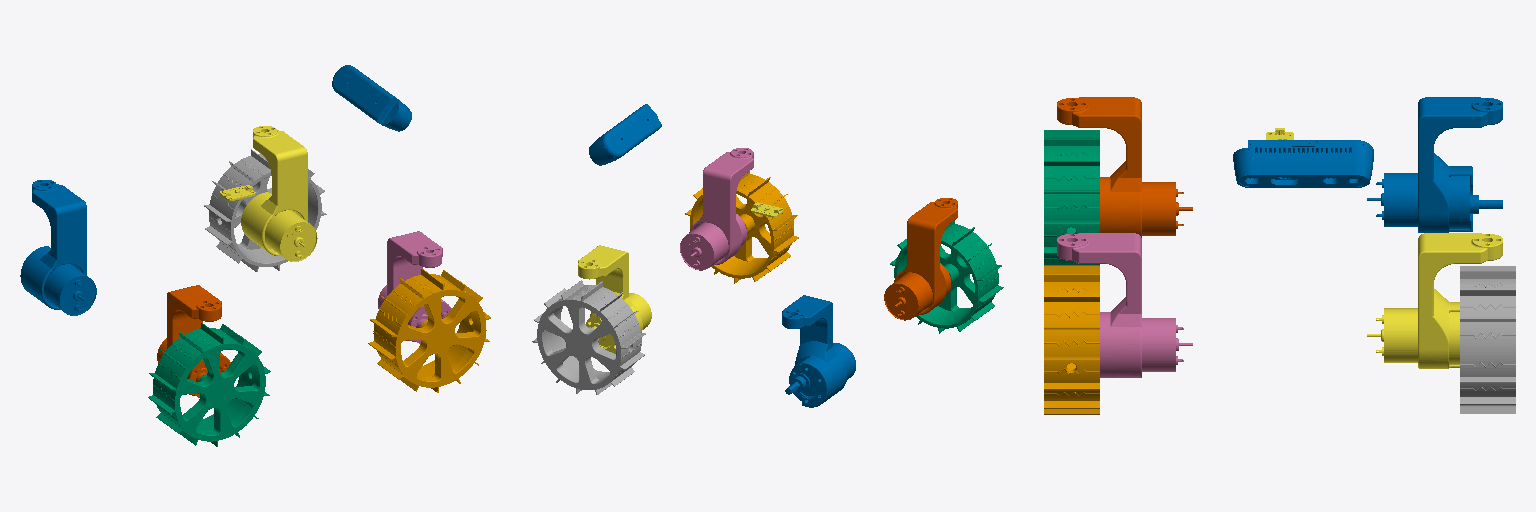
robot.urdf — rocker_bogie_4wd_rover:
<?xml version='1.0' encoding='utf-8'?>
<robot name="rocker_bogie_4wd_rover">
  <!-- KSRC: generated by fix_rev5.py from rocker_bogie_4wd_rover.urdf (rev5 2026-10-14). Fixes: right steering names swapped, steering axis +z, wheel axes +y, base origin at module center (+18.3 mm), old link names, old joint limits (+-90 deg), wheel meshes re-centred on the steering axis (export offset 4.5 mm; assembly rev5.stl has the tread centred). Masses unchanged. -->
  <link name="base_link">
    <inertial>
      <origin xyz="0.010290799972 0.003240341788 -0.025673826811" rpy="0 0 0" />
      <mass value="0.847900053986" />
      <inertia ixx="0.002302831138" ixy="-0.000113581036669" ixz="0.000108137936490" iyy="0.004180321839" iyz="0.000015141466736" izz="0.005334787938" />
    </inertial>
    <visual>
      <origin xyz="0.01830665319 0 0" rpy="0 0 0" />
      <geometry>
        <mesh filename="meshes/rev5/base_link.stl" scale="0.001 0.001 0.001" />
      </geometry>
    </visual>
    <collision>
      <origin xyz="0.01830665319 0 0" rpy="0 0 0" />
      <geometry>
        <mesh filename="meshes/rev5/base_link.stl" scale="0.001 0.001 0.001" />
      </geometry>
    </collision>
  </link>
  <link name="left_rocker_link">
    <inertial>
      <origin xyz="0.000041281766 0.055638256545 -0.022265167017" rpy="0 0 0" />
      <mass value="0.186900033238" />
      <inertia ixx="0.000095809929947" ixy="0.000000472580802" ixz="-0.000000167203869" iyy="0.001204701265" iyz="0.000027487080501" izz="0.001220632439" />
    </inertial>
    <visual>
      <origin xyz="0 0 0" rpy="0 0 0" />
      <geometry>
        <mesh filename="meshes/rev5/arm_l_link.stl" scale="0.001 0.001 0.001" />
      </geometry>
    </visual>
    <collision>
      <origin xyz="0 0 0" rpy="0 0 0" />
      <geometry>
        <mesh filename="meshes/rev5/arm_l_link.stl" scale="0.001 0.001 0.001" />
      </geometry>
    </collision>
  </link>
  <joint name="left_rocker_joint" type="revolute">
    <parent link="base_link" />
    <child link="left_rocker_link" />
    <origin xyz="0 0.06918739351 0" rpy="0 0 0" />
    <axis xyz="0 1 0" />
    <limit lower="-0.523598775598" upper="0.523598775598" effort="0" velocity="3" />
    <dynamics damping="0.01" friction="0" />
  </joint>
  <link name="right_rocker_link">
    <inertial>
      <origin xyz="0.000045263438 -0.055653675439 -0.022209589971" rpy="0 0 0" />
      <mass value="0.186899954875" />
      <inertia ixx="0.000095650905168" ixy="-0.000000408041754" ixz="-0.000000163472263" iyy="0.001202966667" iyz="-0.000027393035014" izz="0.001218553662" />
    </inertial>
    <visual>
      <origin xyz="0 0 0" rpy="0 0 0" />
      <geometry>
        <mesh filename="meshes/rev5/arm_r_link.stl" scale="0.001 0.001 0.001" />
      </geometry>
    </visual>
    <collision>
      <origin xyz="0 0 0" rpy="0 0 0" />
      <geometry>
        <mesh filename="meshes/rev5/arm_r_link.stl" scale="0.001 0.001 0.001" />
      </geometry>
    </collision>
  </link>
  <joint name="right_rocker_joint" type="revolute">
    <parent link="base_link" />
    <child link="right_rocker_link" />
    <origin xyz="0 -0.06918739351 0" rpy="0 0 0" />
    <axis xyz="0 1 0" />
    <limit lower="-0.523598775598" upper="0.523598775598" effort="0" velocity="3" />
    <dynamics damping="0.01" friction="0" />
    <mimic joint="left_rocker_joint" multiplier="-1" offset="0" />
  </joint>
  <link name="fl_steering_link">
    <inertial>
      <origin xyz="0.006757812092 0.037123406320 -0.066878858232" rpy="0 0 0" />
      <mass value="0.225299994110" />
      <inertia ixx="0.000117798243071" ixy="-0.000000391472486" ixz="0.000005555278691" iyy="0.000079323177632" iyz="0.000007931530746" izz="0.000076905189285" />
    </inertial>
    <visual>
      <origin xyz="0 0 0" rpy="0 0 0" />
      <geometry>
        <mesh filename="meshes/rev5/wheel_link_1.stl" scale="0.001 0.001 0.001" />
      </geometry>
    </visual>
    <collision>
      <origin xyz="0 0 0" rpy="0 0 0" />
      <geometry>
        <mesh filename="meshes/rev5/wheel_link_1.stl" scale="0.001 0.001 0.001" />
      </geometry>
    </collision>
  </link>
  <joint name="fl_steering_joint" type="revolute">
    <parent link="left_rocker_link" />
    <child link="fl_steering_link" />
    <origin xyz="0.10243139721 0.06331260649 -0.04531324865" rpy="0 0 3.14159265359" />
    <axis xyz="0 0 1" />
    <limit lower="-1.5707963267948966" upper="1.5707963267948966" effort="2.942" velocity="4.0" />
    <dynamics damping="0.01" friction="0" />
  </joint>
  <link name="rl_steering_link">
    <inertial>
      <origin xyz="-0.006757812092 -0.037123406320 -0.066878858232" rpy="0 0 0" />
      <mass value="0.225299994110" />
      <inertia ixx="0.000117798243071" ixy="-0.000000391472486" ixz="-0.000005555278691" iyy="0.000079323177632" iyz="-0.000007931530746" izz="0.000076905189285" />
    </inertial>
    <visual>
      <origin xyz="0 0 0" rpy="0 0 0" />
      <geometry>
        <mesh filename="meshes/rev5/wheel_link_3.stl" scale="0.001 0.001 0.001" />
      </geometry>
    </visual>
    <collision>
      <origin xyz="0 0 0" rpy="0 0 0" />
      <geometry>
        <mesh filename="meshes/rev5/wheel_link_3.stl" scale="0.001 0.001 0.001" />
      </geometry>
    </collision>
  </link>
  <joint name="rl_steering_joint" type="revolute">
    <parent link="left_rocker_link" />
    <child link="rl_steering_link" />
    <origin xyz="-0.10243139721 0.06331260649 -0.04531324865" rpy="0 0 0" />
    <axis xyz="0 0 1" />
    <limit lower="-1.5707963267948966" upper="1.5707963267948966" effort="2.942" velocity="4.0" />
    <dynamics damping="0.01" friction="0" />
  </joint>
  <link name="rr_steering_link">
    <inertial>
      <origin xyz="0.006757812092 0.037123406320 -0.066878858232" rpy="0 0 0" />
      <mass value="0.225299994110" />
      <inertia ixx="0.000117798243071" ixy="-0.000000391472486" ixz="0.000005555278691" iyy="0.000079323177632" iyz="0.000007931530746" izz="0.000076905189285" />
    </inertial>
    <visual>
      <origin xyz="0 0 0" rpy="0 0 0" />
      <geometry>
        <mesh filename="meshes/rev5/wheel_link_2.stl" scale="0.001 0.001 0.001" />
      </geometry>
    </visual>
    <collision>
      <origin xyz="0 0 0" rpy="0 0 0" />
      <geometry>
        <mesh filename="meshes/rev5/wheel_link_2.stl" scale="0.001 0.001 0.001" />
      </geometry>
    </collision>
  </link>
  <joint name="fr_steering_joint" type="revolute">
    <parent link="right_rocker_link" />
    <child link="fr_steering_link" />
    <origin xyz="0.10243139721 -0.06331260649 -0.04531324865" rpy="0 0 3.14159265359" />
    <axis xyz="0 0 1" />
    <limit lower="-1.5707963267948966" upper="1.5707963267948966" effort="2.942" velocity="4.0" />
    <dynamics damping="0.01" friction="0" />
  </joint>
  <link name="fr_steering_link">
    <inertial>
      <origin xyz="-0.006757812092 -0.037123406320 -0.066878858232" rpy="0 0 0" />
      <mass value="0.225299994110" />
      <inertia ixx="0.000117798243071" ixy="-0.000000391472486" ixz="-0.000005555278691" iyy="0.000079323177632" iyz="-0.000007931530746" izz="0.000076905189285" />
    </inertial>
    <visual>
      <origin xyz="0 0 0" rpy="0 0 0" />
      <geometry>
        <mesh filename="meshes/rev5/wheel_link_4.stl" scale="0.001 0.001 0.001" />
      </geometry>
    </visual>
    <collision>
      <origin xyz="0 0 0" rpy="0 0 0" />
      <geometry>
        <mesh filename="meshes/rev5/wheel_link_4.stl" scale="0.001 0.001 0.001" />
      </geometry>
    </collision>
  </link>
  <joint name="rr_steering_joint" type="revolute">
    <parent link="right_rocker_link" />
    <child link="rr_steering_link" />
    <origin xyz="-0.10243139721 -0.06331260649 -0.04531324865" rpy="0 0 0" />
    <axis xyz="0 0 1" />
    <limit lower="-1.5707963267948966" upper="1.5707963267948966" effort="2.942" velocity="4.0" />
    <dynamics damping="0.01" friction="0" />
  </joint>
  <link name="fl_wheel_link">
    <inertial>
      <origin xyz="0.000105436252 0.00471609067 4.4891e-08" rpy="0 0 0" />
      <mass value="0.049700283757" />
      <inertia ixx="0.000036112445366" ixy="0.000000021731779" ixz="-0.000000000038044" iyy="0.000062381899087" iyz="0.000000000021673" izz="0.000035915321601" />
    </inertial>
    <visual>
      <origin xyz="0 -0.00446875048 0" rpy="0 0 0" />
      <geometry>
        <mesh filename="meshes/rev5/wheel_1.stl" scale="0.001 0.001 0.001" />
      </geometry>
    </visual>
    <collision>
      <origin xyz="0 -0.00446875048 0" rpy="0 0 0" />
      <geometry>
        <mesh filename="meshes/rev5/wheel_1.stl" scale="0.001 0.001 0.001" />
      </geometry>
    </collision>
  </link>
  <joint name="fl_wheel_joint" type="continuous">
    <parent link="fl_steering_link" />
    <child link="fl_wheel_link" />
    <origin xyz="0 0 -0.0705" rpy="0 0 3.14159265359" />
    <axis xyz="-0 1 -0" />
    <limit effort="1.0" velocity="8.0" />
    <dynamics damping="0.001" friction="0" />
  </joint>
  <link name="fr_wheel_link">
    <inertial>
      <origin xyz="0.000105436252 0.00471609067 4.4891e-08" rpy="0 0 0" />
      <mass value="0.049700283757" />
      <inertia ixx="0.000036112445366" ixy="0.000000021731779" ixz="-0.000000000038044" iyy="0.000062381899087" iyz="0.000000000021673" izz="0.000035915321601" />
    </inertial>
    <visual>
      <origin xyz="0 -0.00446875048 0" rpy="0 0 0" />
      <geometry>
        <mesh filename="meshes/rev5/wheel_2.stl" scale="0.001 0.001 0.001" />
      </geometry>
    </visual>
    <collision>
      <origin xyz="0 -0.00446875048 0" rpy="0 0 0" />
      <geometry>
        <mesh filename="meshes/rev5/wheel_2.stl" scale="0.001 0.001 0.001" />
      </geometry>
    </collision>
  </link>
  <joint name="fr_wheel_joint" type="continuous">
    <parent link="fr_steering_link" />
    <child link="fr_wheel_link" />
    <origin xyz="0 0 -0.0705" rpy="0 0 0" />
    <axis xyz="0 -1 0" />
    <limit effort="1.0" velocity="8.0" />
    <dynamics damping="0.001" friction="0" />
  </joint>
  <link name="rl_wheel_link">
    <inertial>
      <origin xyz="-0.000105517419 -0.00471606197 -4.26e-10" rpy="0 0 0" />
      <mass value="0.049700327360" />
      <inertia ixx="0.000036112478572" ixy="0.000000021752632" ixz="-0.000000000012088" iyy="0.000062381919386" iyz="-0.000000000001085" izz="0.000035915338505" />
    </inertial>
    <visual>
      <origin xyz="0 0.00446875048 0" rpy="0 0 0" />
      <geometry>
        <mesh filename="meshes/rev5/wheel_3.stl" scale="0.001 0.001 0.001" />
      </geometry>
    </visual>
    <collision>
      <origin xyz="0 0.00446875048 0" rpy="0 0 0" />
      <geometry>
        <mesh filename="meshes/rev5/wheel_3.stl" scale="0.001 0.001 0.001" />
      </geometry>
    </collision>
  </link>
  <joint name="rl_wheel_joint" type="continuous">
    <parent link="rl_steering_link" />
    <child link="rl_wheel_link" />
    <origin xyz="0 0 -0.0705" rpy="0 0 3.14159265359" />
    <axis xyz="-0 -1 -0" />
    <limit effort="1.0" velocity="8.0" />
    <dynamics damping="0.001" friction="0" />
  </joint>
  <link name="rr_wheel_link">
    <inertial>
      <origin xyz="-0.000105517419 -0.00471606197 -4.26e-10" rpy="0 0 0" />
      <mass value="0.049700327360" />
      <inertia ixx="0.000036112478572" ixy="0.000000021752632" ixz="-0.000000000012088" iyy="0.000062381919386" iyz="-0.000000000001085" izz="0.000035915338505" />
    </inertial>
    <visual>
      <origin xyz="0 0.00446875048 0" rpy="0 0 0" />
      <geometry>
        <mesh filename="meshes/rev5/wheel_4.stl" scale="0.001 0.001 0.001" />
      </geometry>
    </visual>
    <collision>
      <origin xyz="0 0.00446875048 0" rpy="0 0 0" />
      <geometry>
        <mesh filename="meshes/rev5/wheel_4.stl" scale="0.001 0.001 0.001" />
      </geometry>
    </collision>
  </link>
  <joint name="rr_wheel_joint" type="continuous">
    <parent link="rr_steering_link" />
    <child link="rr_wheel_link" />
    <origin xyz="0 0 -0.0705" rpy="0 0 0" />
    <axis xyz="0 1 0" />
    <limit effort="1.0" velocity="8.0" />
    <dynamics damping="0.001" friction="0" />
  </joint>
  <link name="imu_link">
    <inertial>
      <origin xyz="0.000039949849 0.000108307373 -0.002011729835" rpy="0 0 0" />
      <mass value="0.002400000279" />
      <inertia ixx="0.000000056092954" ixy="-0.000000000148781" ixz="-0.000000000114852" iyy="0.000000136628269" iyz="-0.000000000005384" izz="0.000000188602298" />
    </inertial>
    <visual>
      <origin xyz="0 0 0" rpy="0 0 0" />
      <geometry>
        <mesh filename="meshes/rev5/IMU.stl" scale="0.001 0.001 0.001" />
      </geometry>
    </visual>
    <collision>
      <origin xyz="0 0 0" rpy="0 0 0" />
      <geometry>
        <mesh filename="meshes/rev5/IMU.stl" scale="0.001 0.001 0.001" />
      </geometry>
    </collision>
  </link>
  <joint name="base_to_imu" type="fixed">
    <parent link="base_link" />
    <child link="imu_link" />
    <origin xyz="0.0003 0 -0.021473" rpy="0 0 0" />
  </joint>
  <link name="camera_link">
    <inertial>
      <origin xyz="-0.011811875567 0.008683428205 0.004231746168" rpy="0 0 0" />
      <mass value="0.073299981594" />
      <inertia ixx="0.000045771873705" ixy="0.000000388879236" ixz="0.000000069330944" iyy="0.000006626435639" iyz="-0.000000147048200" izz="0.000045944278179" />
    </inertial>
    <visual>
      <origin xyz="0 0 0" rpy="0 0 0" />
      <geometry>
        <mesh filename="meshes/rev5/Camera.stl" scale="0.001 0.001 0.001" />
      </geometry>
    </visual>
    <collision>
      <origin xyz="0 0 0" rpy="0 0 0" />
      <geometry>
        <mesh filename="meshes/rev5/Camera.stl" scale="0.001 0.001 0.001" />
      </geometry>
    </collision>
  </link>
  <joint name="base_to_camera" type="fixed">
    <parent link="base_link" />
    <child link="camera_link" />
    <origin xyz="0.14329239587 0.00747451631 0.01521787607" rpy="0 0.349066 0" />
  </joint>
  <link name="camera_left_optical_frame" />
  <joint name="camera_to_left_optical_frame" type="fixed">
    <parent link="camera_link" />
    <child link="camera_left_optical_frame" />
    <origin xyz="0 0.0175 0" rpy="-1.570796326795 0 -1.570796326795" />
  </joint>
  <link name="camera_right_optical_frame" />
  <joint name="camera_to_right_optical_frame" type="fixed">
    <parent link="camera_link" />
    <child link="camera_right_optical_frame" />
    <origin xyz="0 -0.0325 0" rpy="-1.570796326795 0 -1.570796326795" />
  </joint>
</robot>

--- Render facts (derived) ---
Views: 3 orthographic renders of the robot side by side, from view 1: azimuth 30°, elevation 25°; view 2: azimuth 150°, elevation 25°; view 3: azimuth 270°, elevation 25°.
Model rocker_bogie_4wd_rover with 15 links and 14 joints (6 revolute, 4 continuous, 4 fixed), rooted at base_link, posed every joint at zero.
Visible links, largest first — view 1: fr_wheel_link, rr_wheel_link, fl_steering_link, rl_steering_link, fl_wheel_link, fr_steering_link, rr_steering_link, camera_link; view 2: fl_wheel_link, rl_steering_link, rr_steering_link, fr_steering_link, rr_wheel_link, fr_wheel_link, fl_steering_link, camera_link; view 3: rl_steering_link, fr_wheel_link, fl_wheel_link, fr_steering_link, fl_steering_link, rr_steering_link, camera_link, rr_wheel_link.
Boxes of the visible links, left/top/right/bottom form: fr_wheel_link: left=368, top=269, right=490, bottom=392; rr_wheel_link: left=148, top=322, right=270, bottom=446; fl_steering_link: left=241, top=126, right=316, bottom=261; rl_steering_link: left=20, top=180, right=96, bottom=315; fl_wheel_link: left=204, top=149, right=326, bottom=271; fr_steering_link: left=378, top=231, right=451, bottom=343; rr_steering_link: left=157, top=285, right=230, bottom=397; camera_link: left=332, top=65, right=411, bottom=131; fl_wheel_link: left=532, top=280, right=645, bottom=394; rl_steering_link: left=782, top=295, right=855, bottom=407; rr_steering_link: left=884, top=198, right=957, bottom=320; fr_steering_link: left=680, top=148, right=753, bottom=270; rr_wheel_link: left=890, top=221, right=1003, bottom=333; fr_wheel_link: left=685, top=171, right=798, bottom=283; fl_steering_link: left=578, top=245, right=651, bottom=353; camera_link: left=589, top=104, right=661, bottom=165; rl_steering_link: left=1367, top=97, right=1502, bottom=232; fr_wheel_link: left=1044, top=266, right=1099, bottom=414; fl_wheel_link: left=1460, top=266, right=1515, bottom=413; fr_steering_link: left=1057, top=233, right=1192, bottom=377; fl_steering_link: left=1367, top=233, right=1502, bottom=368; rr_steering_link: left=1057, top=97, right=1192, bottom=237; camera_link: left=1233, top=140, right=1373, bottom=187; rr_wheel_link: left=1044, top=130, right=1099, bottom=265.
Size in the robot's own frame: 0.2994 by 0.3004 by 0.2024 metres.
9 mesh visuals loaded from 13 distinct referenced files (9 binary STL); not drawn: 4 (reference not matched to a file when rendering).
